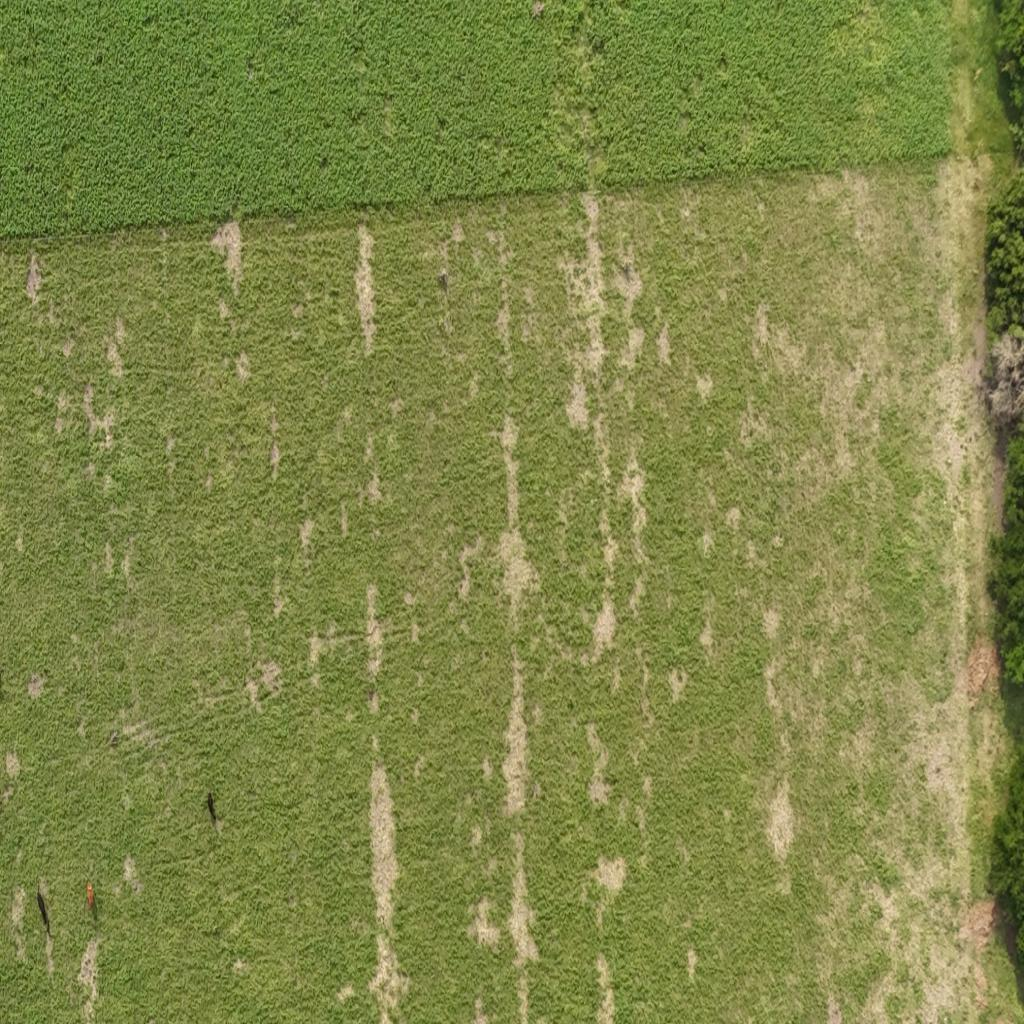cow: (202, 786, 224, 827), (36, 888, 53, 938), (86, 877, 98, 923)
